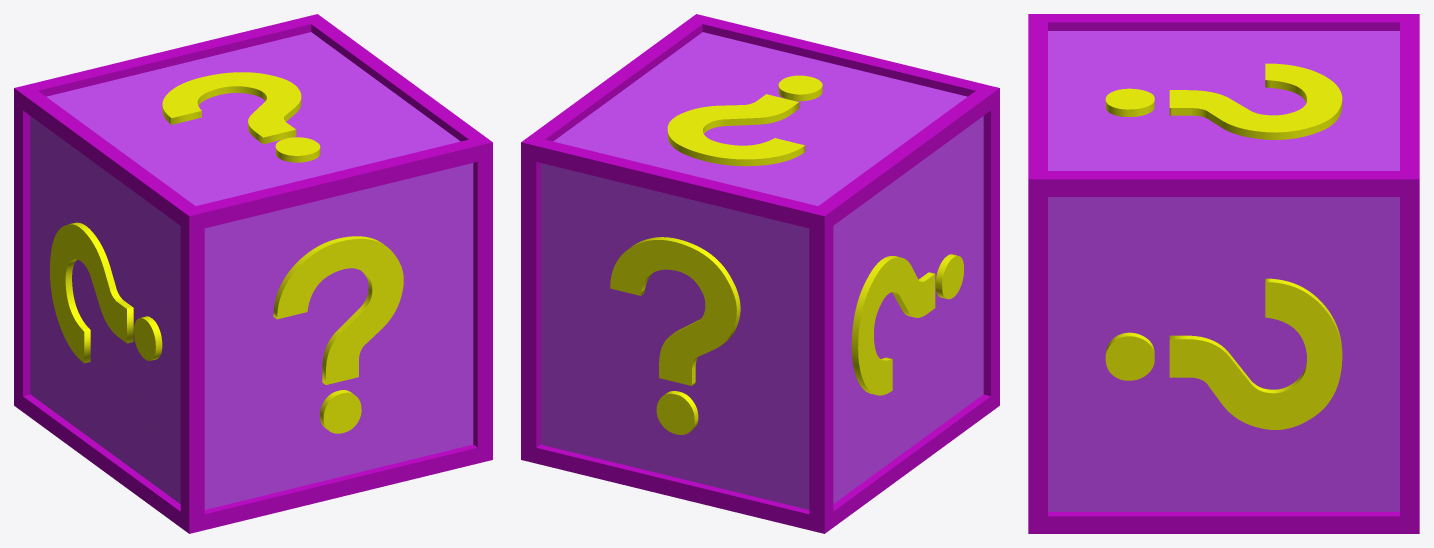
File: SurpriseBox.fbx
3 renders of one model, left to right at view 1: azimuth 30°, elevation 25°; view 2: azimuth 150°, elevation 25°; view 3: azimuth 270°, elevation 25°, orthographic. The views are drawn at different scales.
Visible parts, largest first — view 1: Cube, question001, question004, question002; view 2: Cube, question, question002, question004; view 3: Cube, question005, question002.
Part boxes in pixels (<box>): Cube: <box>14,14,492,533</box>; question001: <box>273,236,403,433</box>; question004: <box>50,222,162,363</box>; question002: <box>162,72,320,162</box>; Cube: <box>521,14,999,533</box>; question: <box>610,237,740,434</box>; question002: <box>667,75,822,166</box>; question004: <box>851,254,963,395</box>; Cube: <box>1028,14,1419,533</box>; question005: <box>1105,278,1342,429</box>; question002: <box>1105,63,1342,139</box>.
Bounding box in the file's own units: 200 × 200 × 200.
